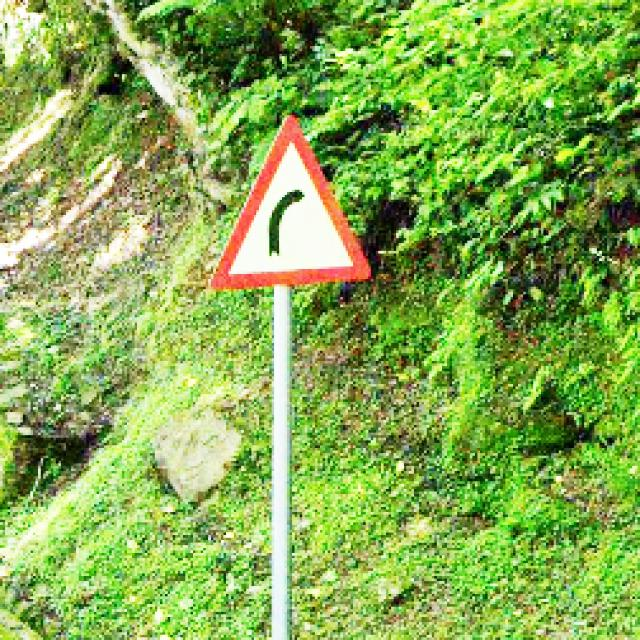rightbend: (211, 115, 373, 292)
